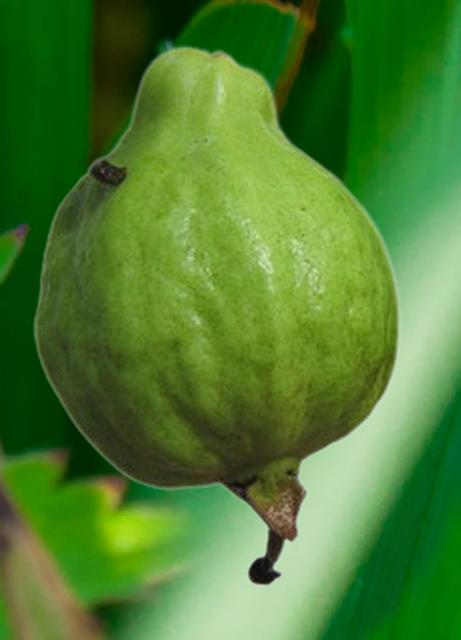guava: (31, 44, 400, 586)
